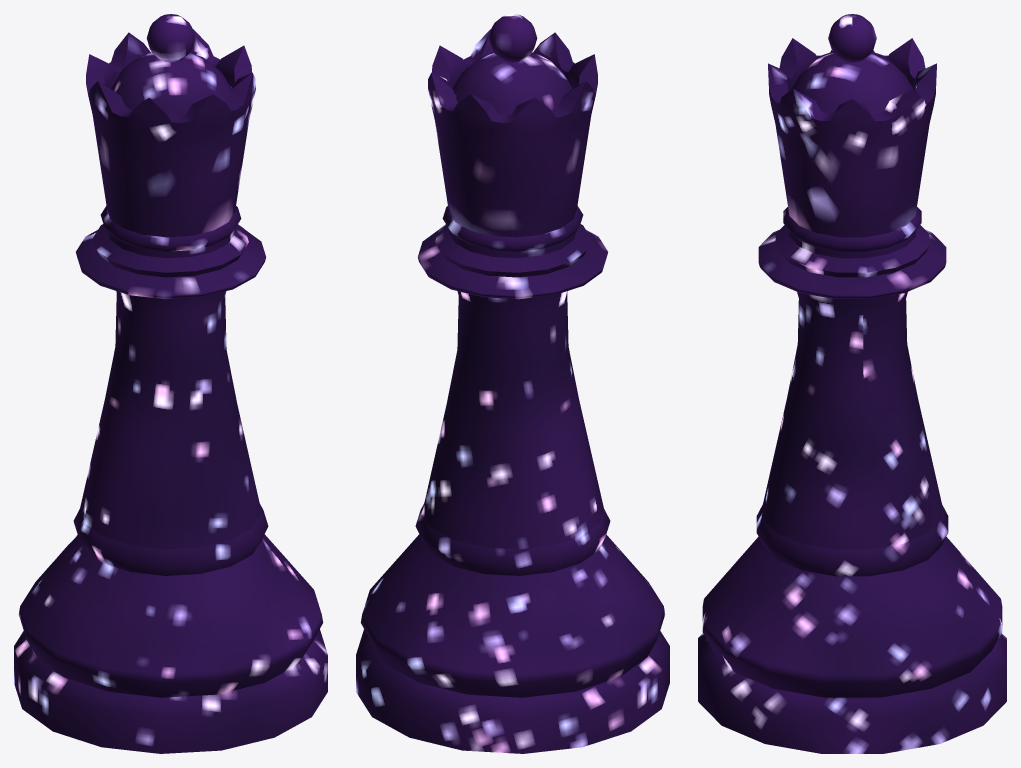
File: item-4-6.glb
The picture shows the model from 3 angles, left to right: view 1: azimuth 30°, elevation 25°; view 2: azimuth 150°, elevation 25°; view 3: azimuth 270°, elevation 25°; orthographic projection.
Visible parts, largest first — view 1: BlackQueen; view 2: BlackQueen; view 3: BlackQueen.
Boxes of the visible parts, box(x1,y1,x2,y2) form: BlackQueen: box(14, 14, 327, 753); BlackQueen: box(356, 14, 669, 753); BlackQueen: box(698, 14, 1006, 753).
Size of the model in its own units: 0.0968 by 0.2326 by 0.0968.
Materials: 1 (1 with a texture image).
